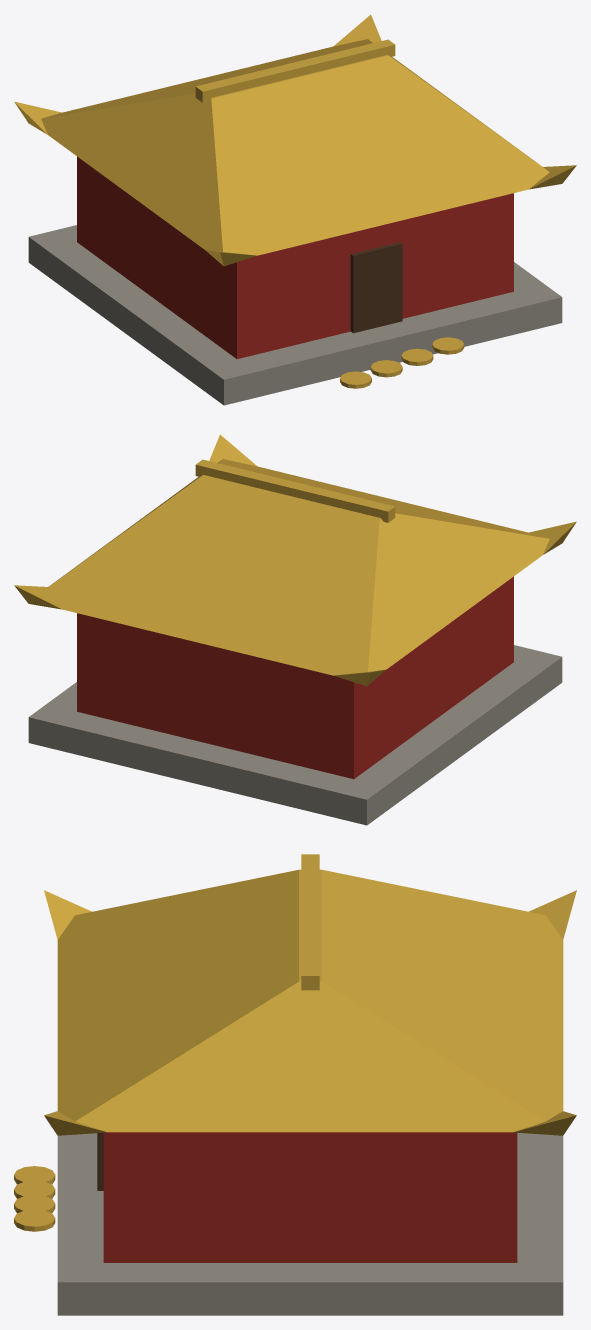
Rendered from mint.glb.
3 views of the same model, one above another, from view 1: azimuth 30°, elevation 25°; view 2: azimuth 150°, elevation 25°; view 3: azimuth 270°, elevation 25° (orthographic). The views are drawn at different scales.
Parts seen in each view (by area): view 1: Mint; view 2: Mint; view 3: Mint.
Boxes of the visible parts, x1,y1,x2,y2 form: Mint: [14, 14, 576, 405]; Mint: [14, 434, 576, 825]; Mint: [14, 854, 576, 1315].
Size of the model in its own units: 11.6 by 7.06 by 12.25.
